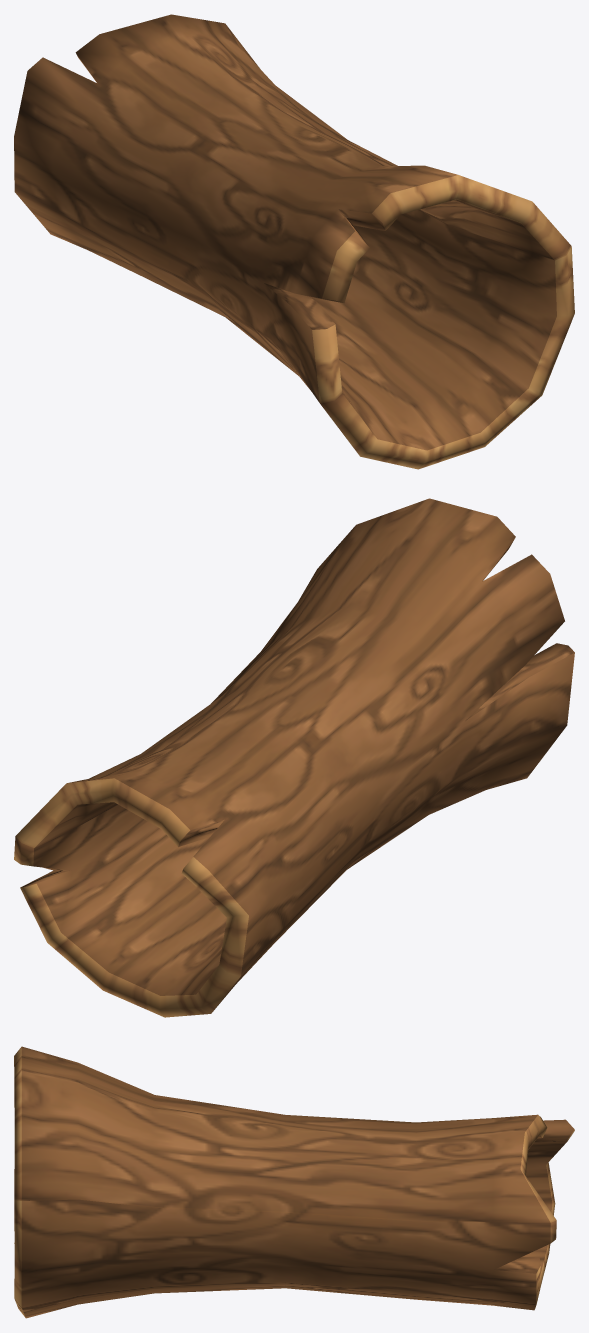
File: VEG0210031.fbx
3 renders of one model, top to bottom at view 1: azimuth 30°, elevation 25°; view 2: azimuth 150°, elevation 25°; view 3: azimuth 270°, elevation 25°, orthographic. The views are drawn at different scales.
Parts seen in each view (by area): view 1: smVEG0210031; view 2: smVEG0210031; view 3: smVEG0210031.
Boxes of the visible parts, box(x1,y1,x2,y2) form: smVEG0210031: box(14, 14, 574, 469); smVEG0210031: box(14, 498, 574, 1017); smVEG0210031: box(14, 1046, 574, 1318).
Bounding box in the file's own units: 80.14 × 83.67 × 178.
1 material, 1 textured.
